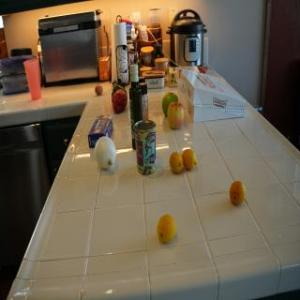bell_pepper: (112, 90, 126, 112), (112, 84, 126, 100)
egg: (95, 84, 103, 94)
onion: (94, 136, 116, 170)
